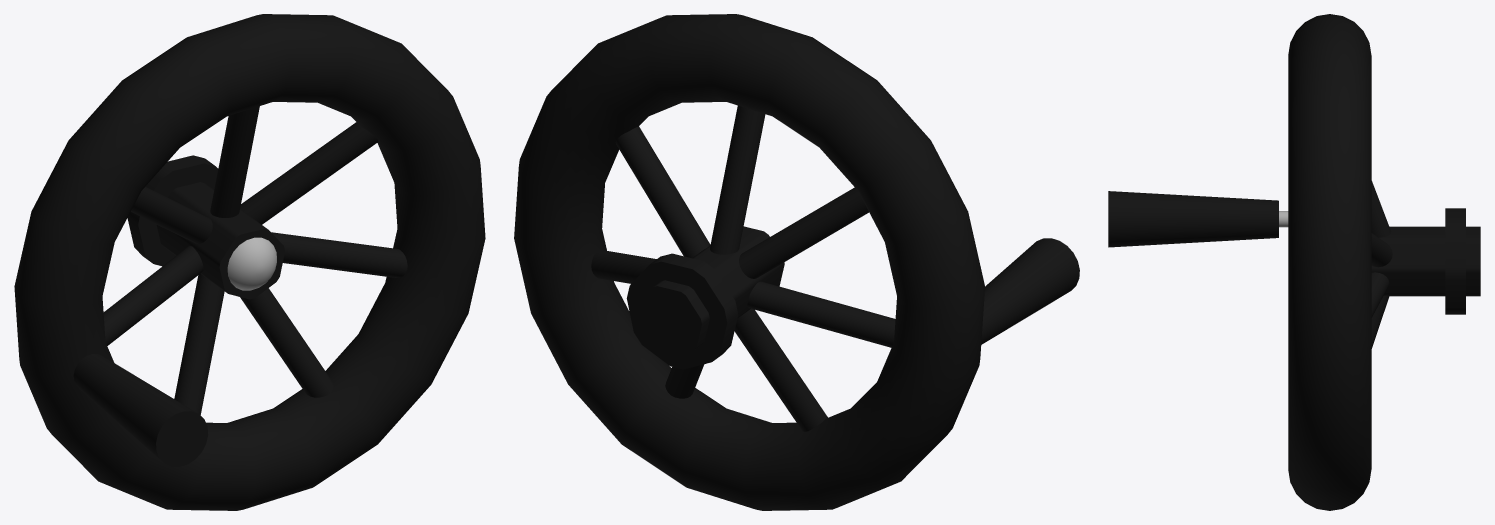
Rendered from handle03.fbx.
The picture shows the model from 3 angles, left to right: view 1: azimuth 30°, elevation 25°; view 2: azimuth 150°, elevation 25°; view 3: azimuth 270°, elevation 25°; orthographic projection. The views are drawn at different scales.
Parts seen in each view (by area): view 1: polySurface16; view 2: polySurface16; view 3: polySurface16.
Part boxes in pixels (x1,y1,x2,y2): polySurface16: (14, 14, 485, 510); polySurface16: (514, 14, 1079, 510); polySurface16: (1108, 14, 1480, 510).
Size of the model in its own units: 16.63 by 16.63 by 12.45.
2 materials, 2 textured.
